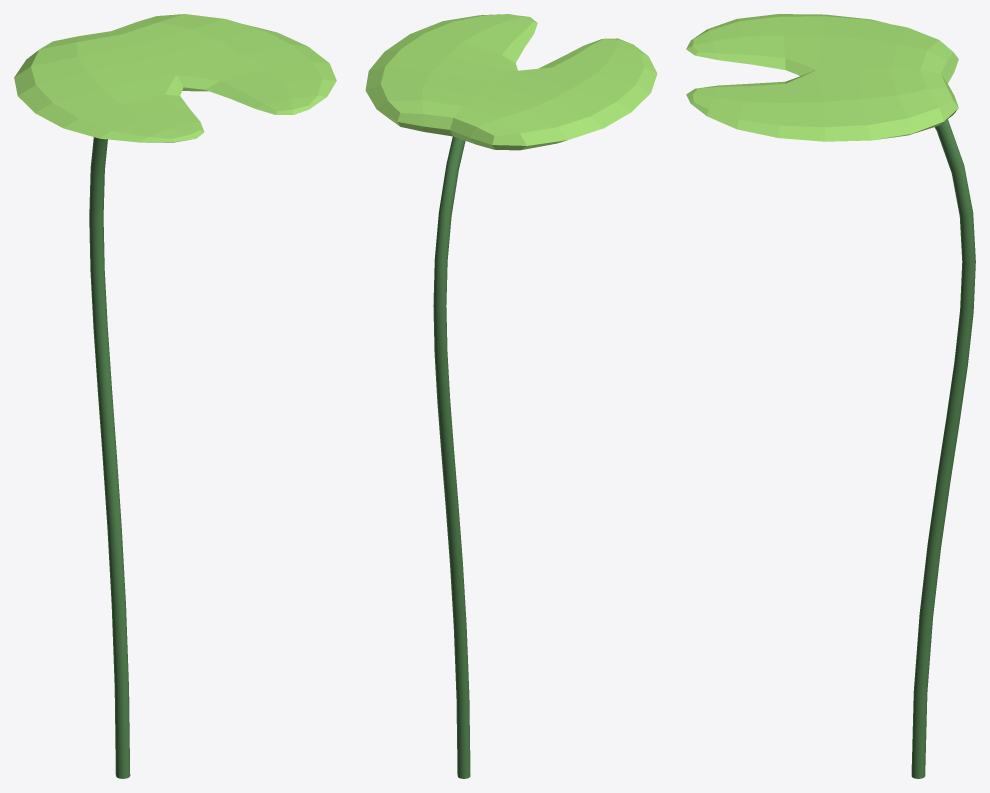
File: lilypad.fbx
3 renders of one model, left to right at view 1: azimuth 30°, elevation 25°; view 2: azimuth 150°, elevation 25°; view 3: azimuth 270°, elevation 25°, orthographic. The views are drawn at different scales.
Parts seen in each view (by area): view 1: lilypad; view 2: lilypad; view 3: lilypad.
Boxes of the visible parts, x1,y1,x2,y2 form: lilypad: [14, 14, 336, 778]; lilypad: [365, 14, 657, 778]; lilypad: [686, 14, 975, 778].
Bounding box in the file's own units: 428 × 1109 × 412.
